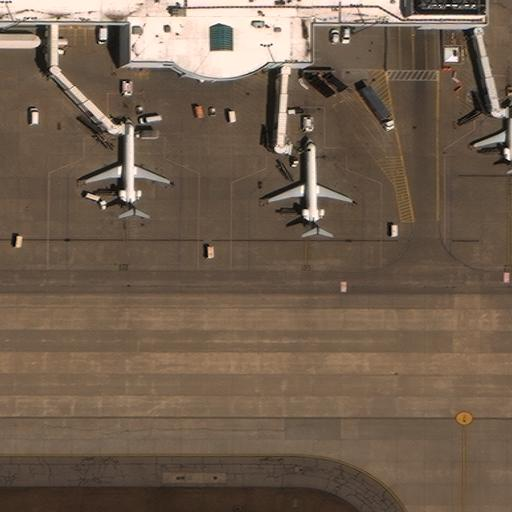Medium Civil Transport: (85, 116, 169, 215), (268, 136, 351, 235), (473, 99, 512, 169)
